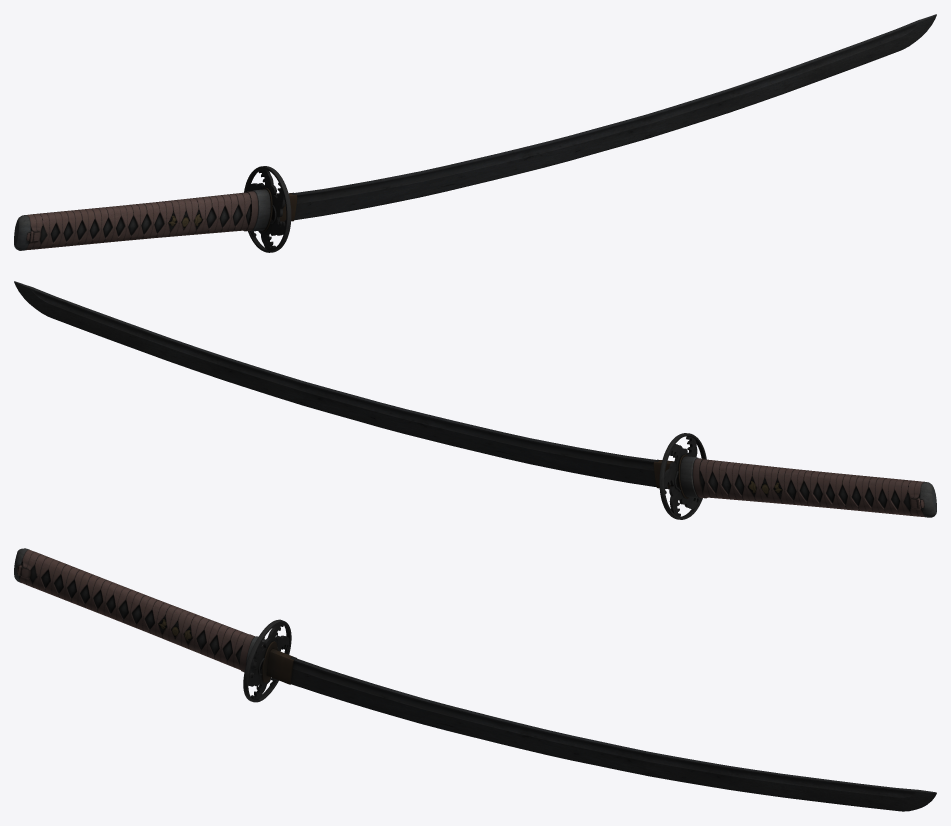
The picture shows the model from 3 angles, top to bottom: view 1: azimuth 30°, elevation 25°; view 2: azimuth 150°, elevation 25°; view 3: azimuth 330°, elevation 25°; orthographic projection.
Size of the model in its own units: 116 by 11.13 by 9.48.
1 material, 1 textured.
